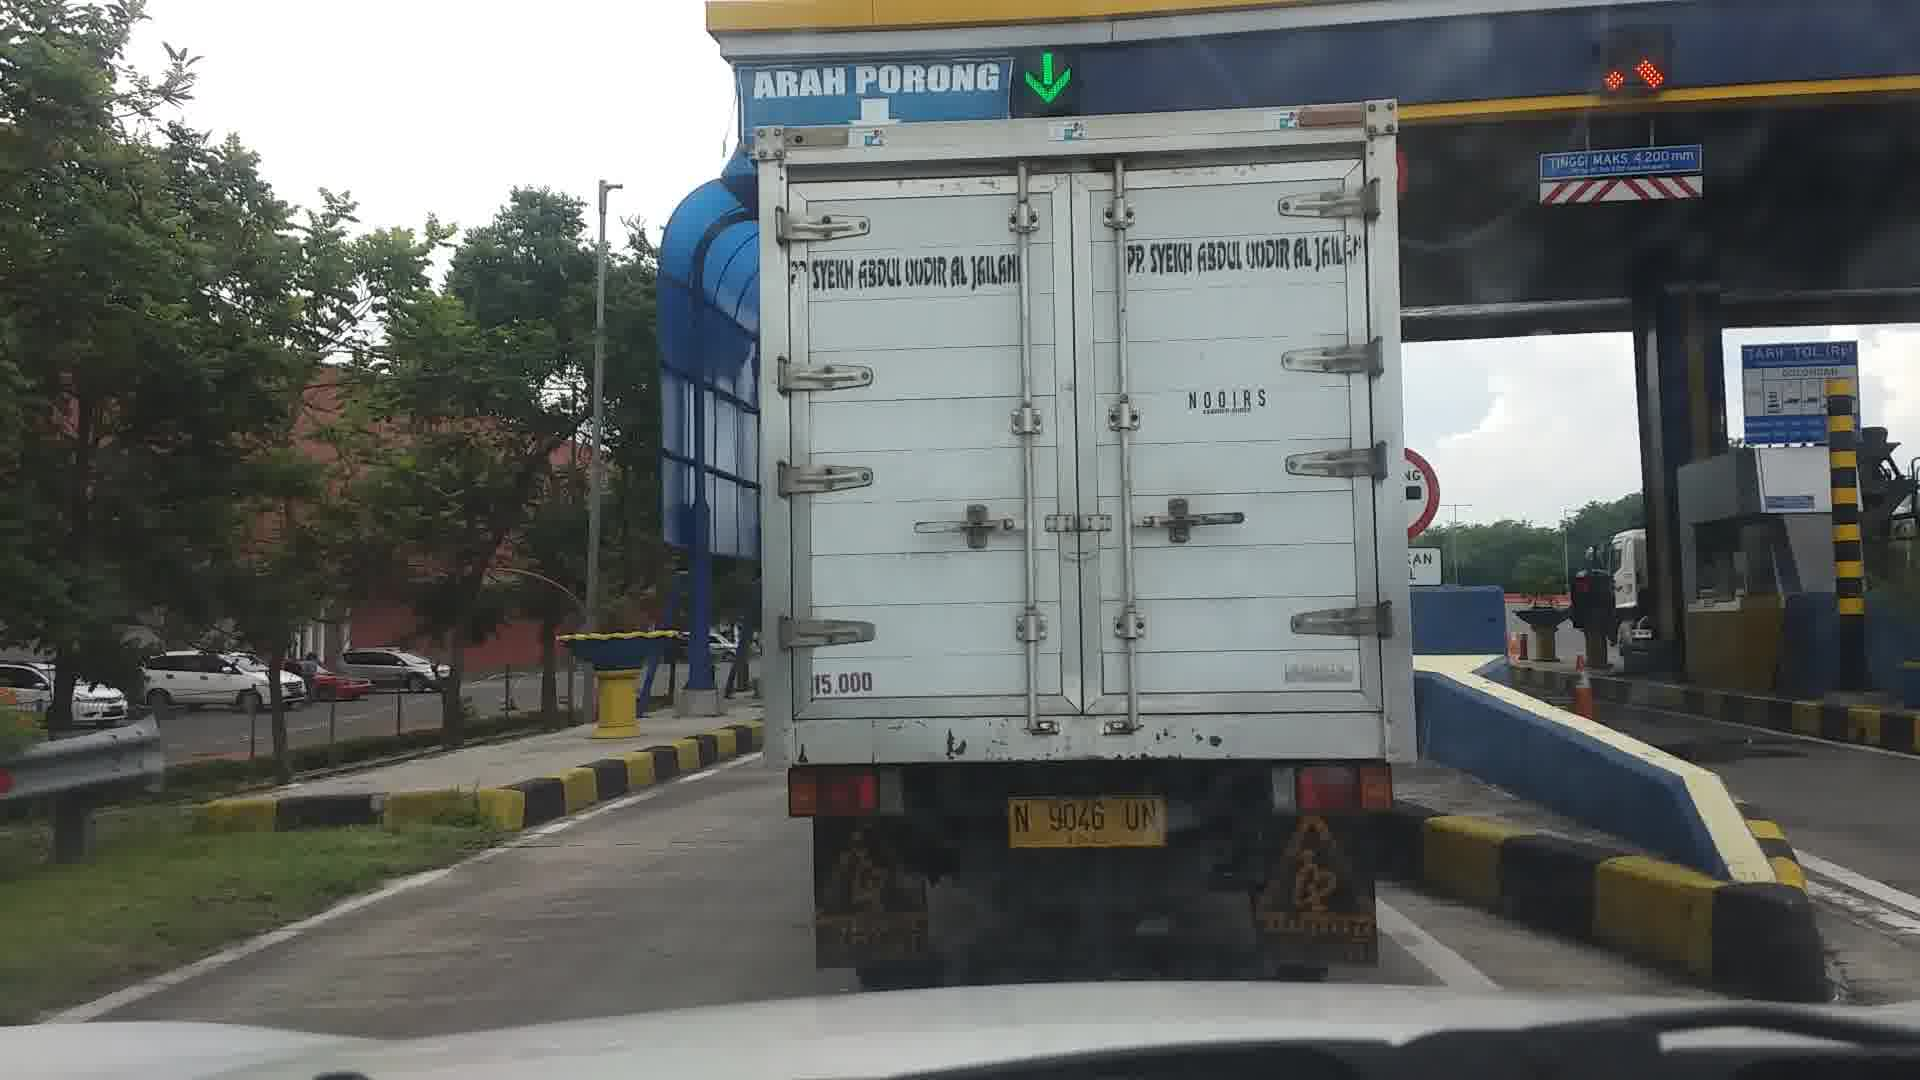plate_positive: (1007, 796, 1167, 847)
